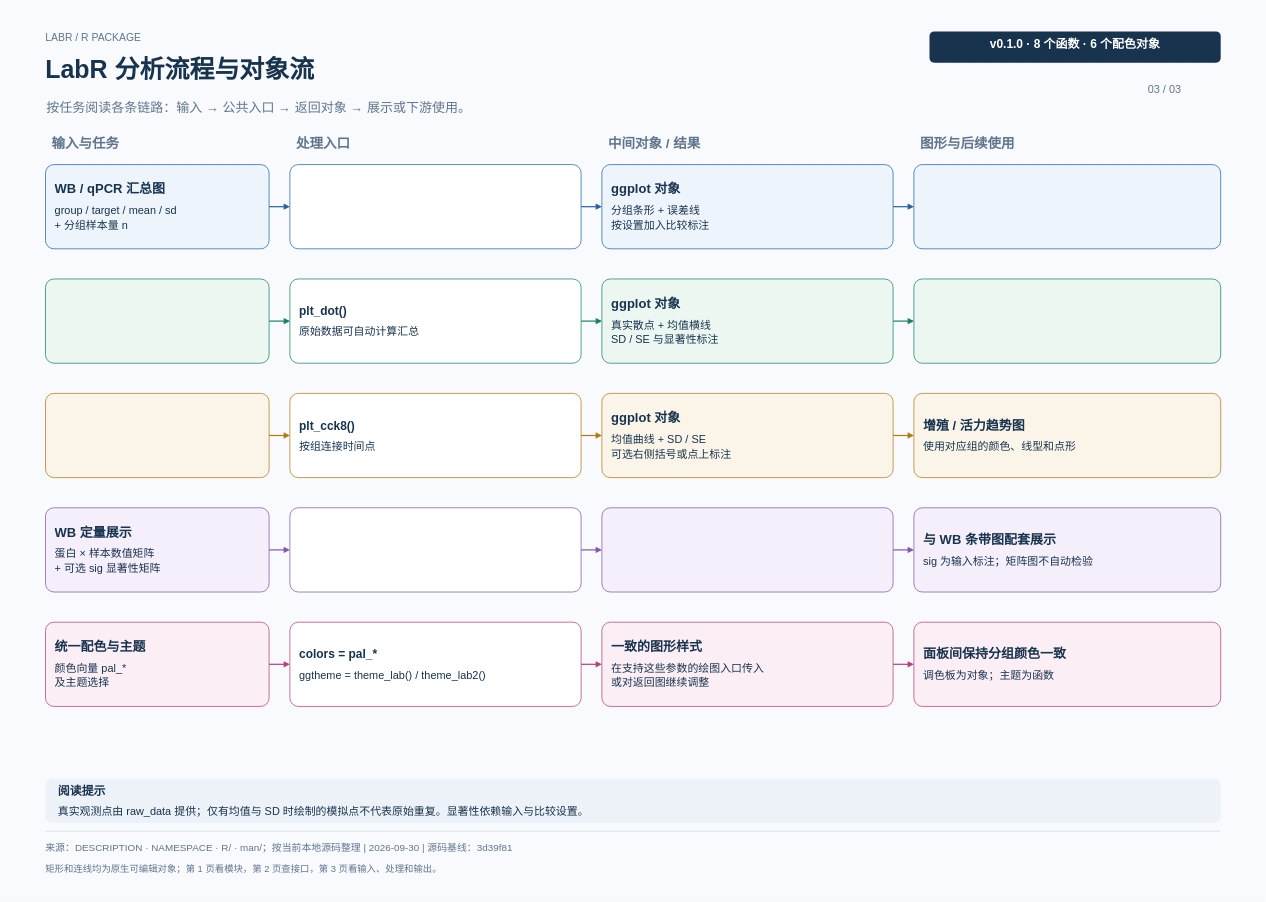
Some shapes in this 1266 by 902 pixel diagram are drawn without their labels. The shapes that lost their labels are listed below. From the top down, each one's centre as x and y in pixels, then its label:
point 435,206: plt_bar() / plt_bar1() 选择条形与散点样式
point 1067,206: ggplot2 图形编辑与导出 可用 raw_data 覆盖模拟散点
point 157,320: 真实散点展示 原始重复值 raw_data 或已计算的分组汇总
point 1067,320: 论文中的组间比较图 theme_lab() / theme_lab2() 用于进一步调整主题
point 157,435: CCK-8 时间曲线 group / time / mean / sd + 各组样本量 n
point 435,549: plt_wb_heat() / plt_wb_bubble() 热图或气泡编码
point 747,549: ggplot 对象 热图：数值颜色与标签 气泡：大小为数值、颜色为显著性
